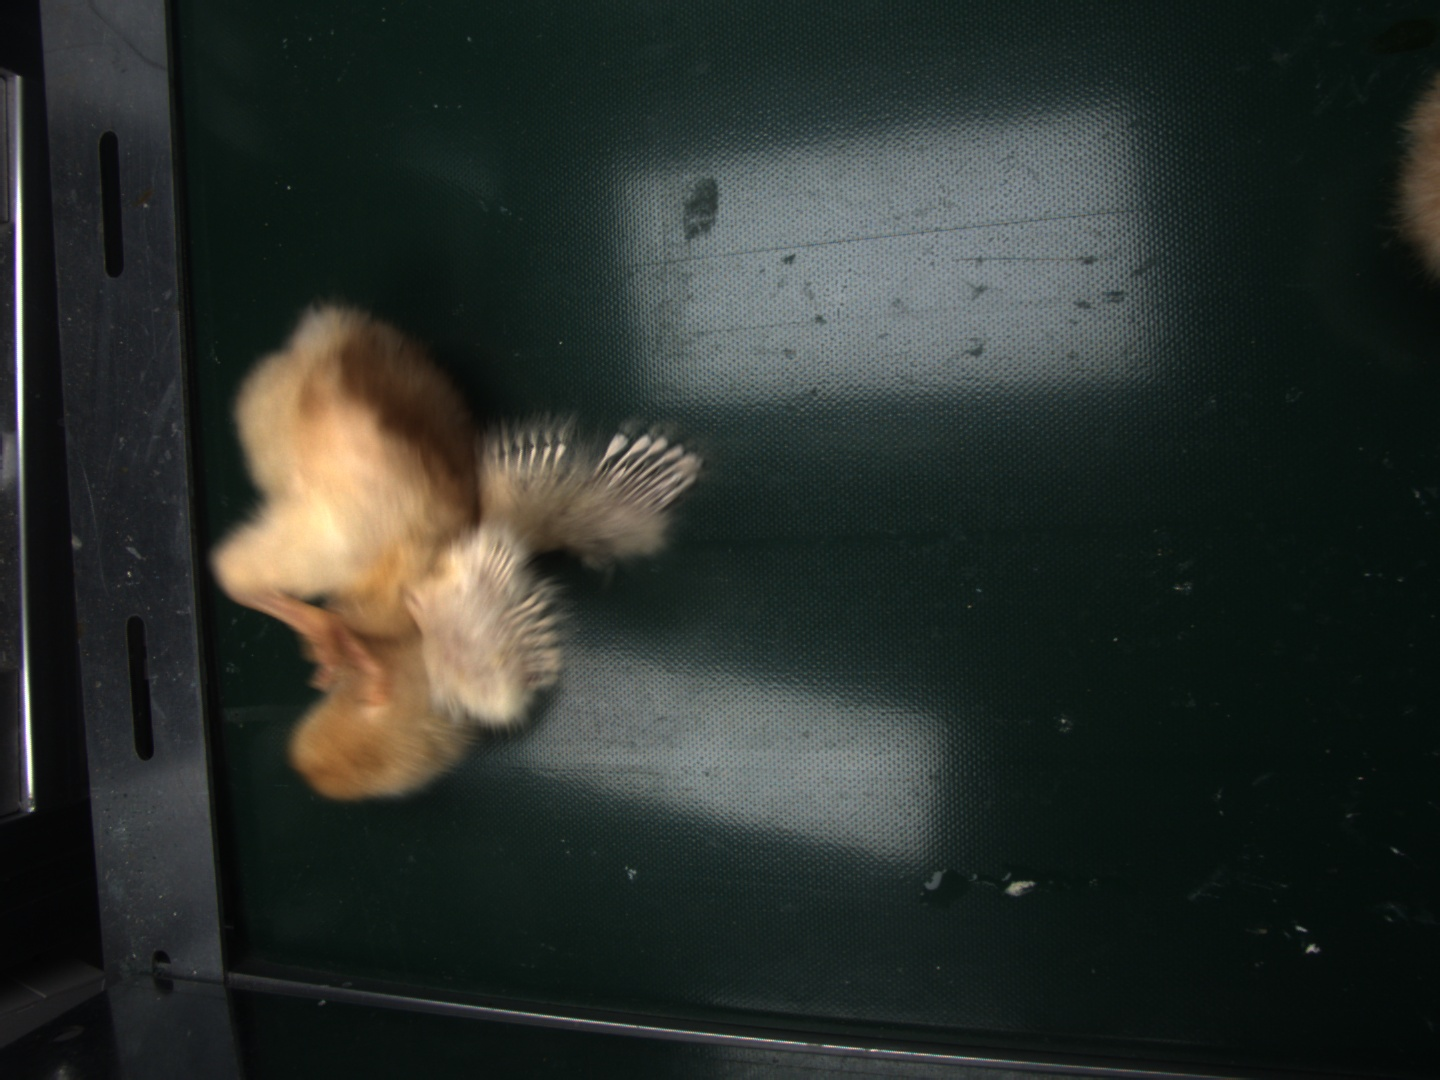female: (598, 428, 702, 509)
